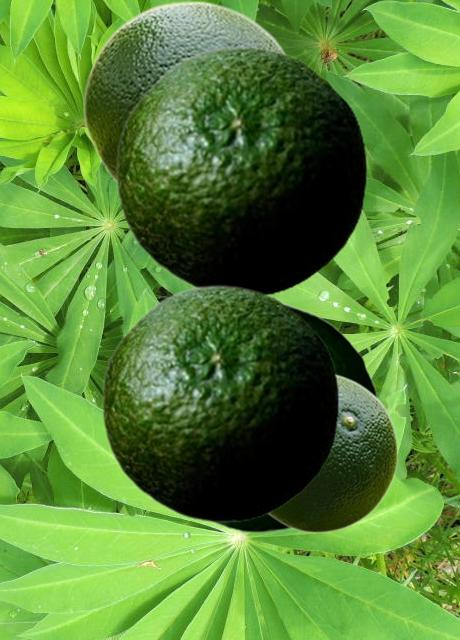calamansi: (115, 45, 366, 296), (101, 284, 338, 522), (209, 301, 381, 532), (82, 0, 289, 182), (269, 373, 398, 532)
